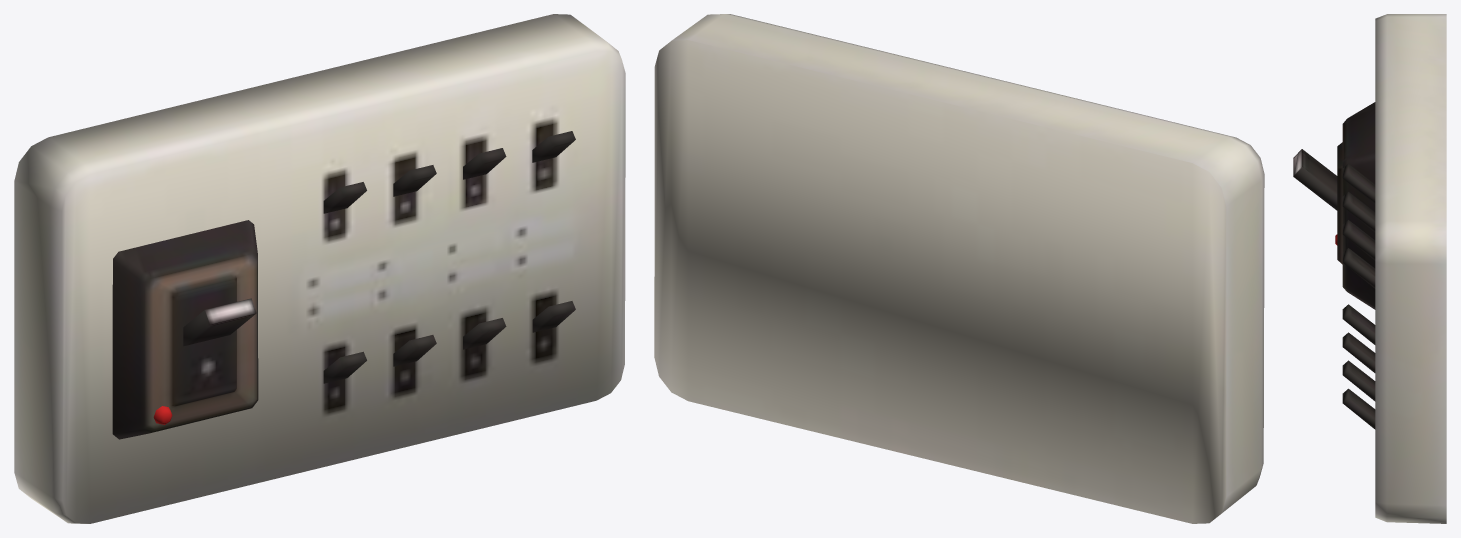
3 views of the same model, side by side, from view 1: azimuth 30°, elevation 25°; view 2: azimuth 150°, elevation 25°; view 3: azimuth 270°, elevation 25° (orthographic). The views are drawn at different scales.
Size of the model in its own units: 6.81 by 4.11 by 1.9.
Materials: 1 (1 with a texture image).
